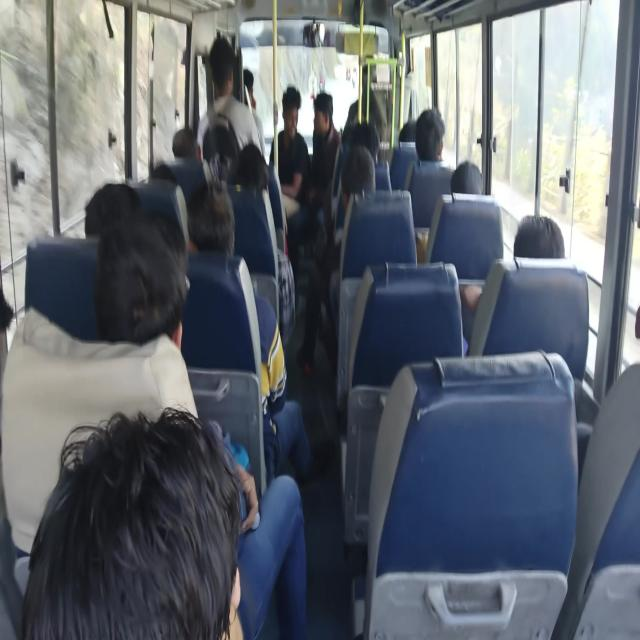person: (56, 417, 271, 640), (97, 225, 197, 374), (194, 189, 248, 272), (514, 205, 574, 275), (205, 34, 245, 103), (224, 163, 278, 213), (228, 67, 262, 137), (233, 140, 277, 189), (416, 110, 452, 168), (340, 143, 376, 192), (620, 282, 640, 367), (84, 186, 126, 224), (454, 170, 490, 212), (310, 95, 336, 146), (143, 156, 181, 188), (168, 121, 197, 161), (339, 115, 366, 151), (281, 92, 303, 132), (396, 120, 421, 150), (352, 123, 370, 148)
